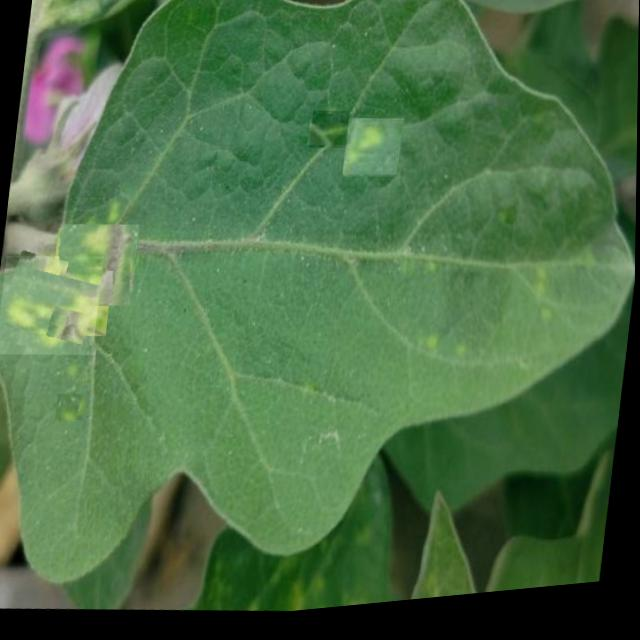leaf_spot: (0, 247, 104, 363), (51, 218, 140, 313), (343, 120, 404, 186), (309, 113, 350, 157), (56, 392, 85, 423)
